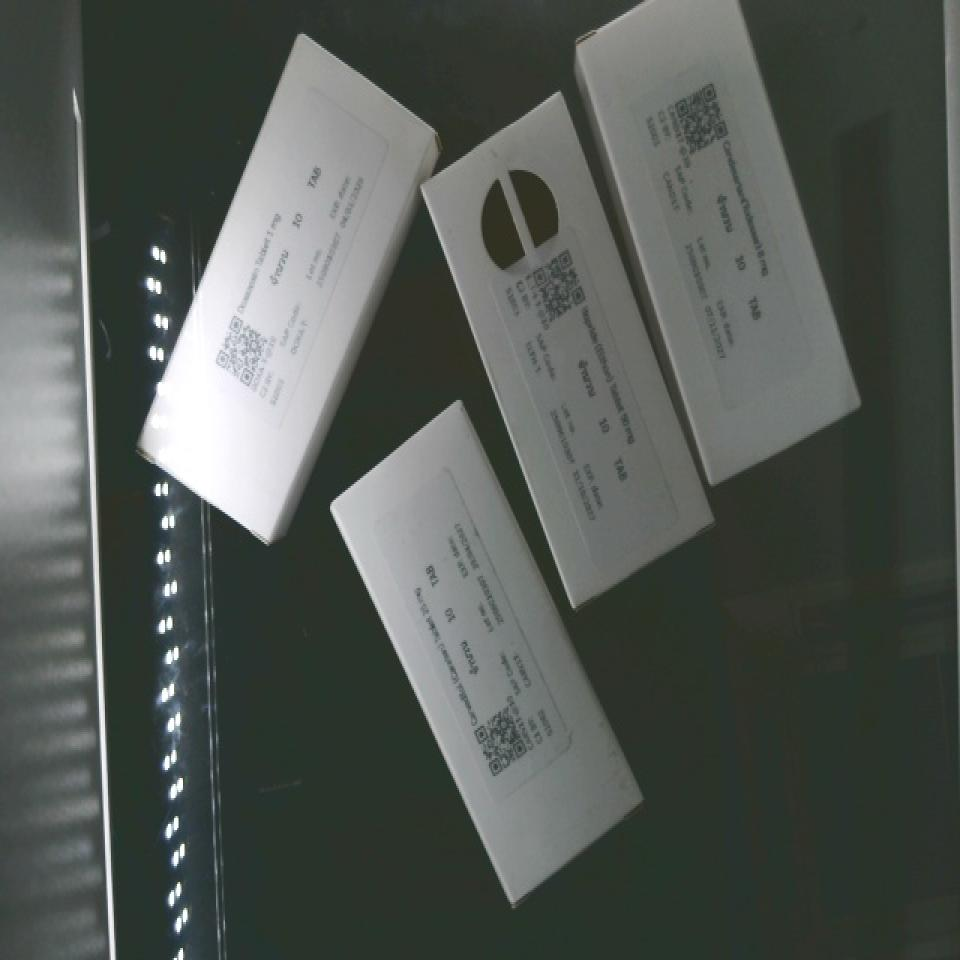medicine_box: (309, 402, 660, 901), (405, 92, 724, 606), (124, 38, 448, 539), (570, 0, 868, 479)
qr_code: (447, 685, 560, 799), (652, 63, 746, 183), (507, 234, 607, 342), (197, 298, 287, 410)
